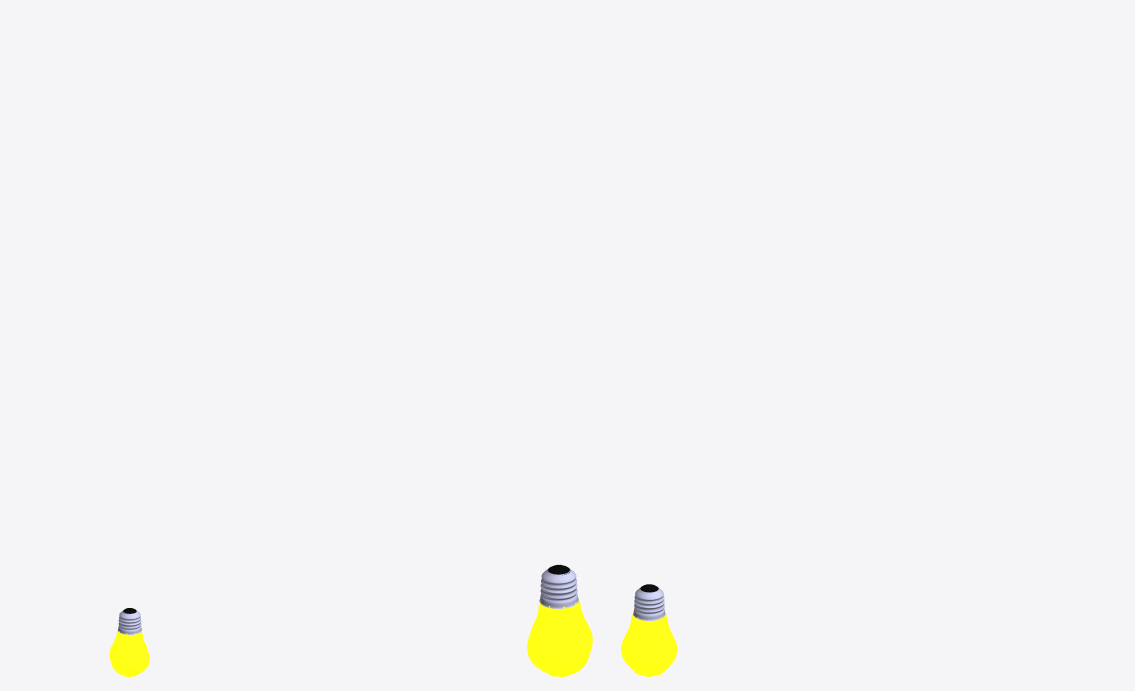
File: bulb-on.glb
3 renders of one model, left to right at view 1: azimuth 30°, elevation 25°; view 2: azimuth 150°, elevation 25°; view 3: azimuth 270°, elevation 25°, orthographic. The views are drawn at different scales.
Parts seen in each view (by area): view 1: Plane.002, Plane.003; view 2: Plane.002, Plane.003; view 3: Plane.002, Plane.003.
Part boxes in pixels (x1=…): Plane.002: x1=109, y1=629, x2=149, y2=676; Plane.003: x1=118, y1=610, x2=141, y2=634; Plane.002: x1=527, y1=597, x2=592, y2=676; Plane.003: x1=539, y1=566, x2=578, y2=608; Plane.002: x1=621, y1=613, x2=677, y2=676; Plane.003: x1=633, y1=586, x2=665, y2=620.
Size of the model in its own units: 0.5188 by 3.32 by 2.15.
